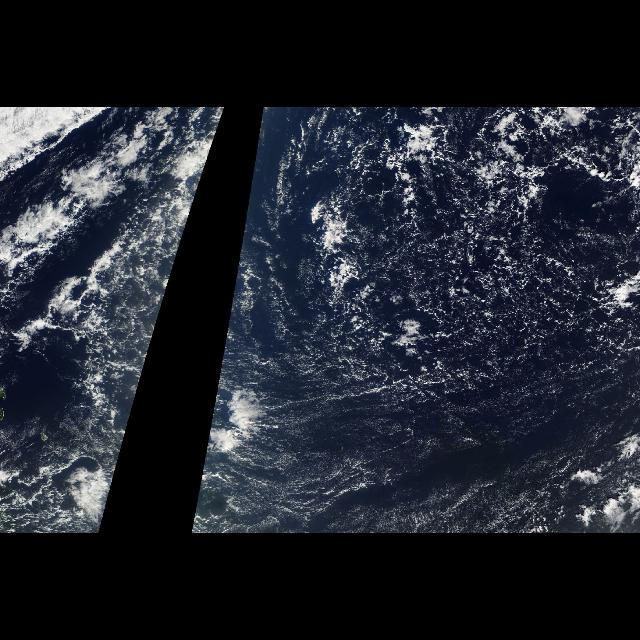Gravel: (288, 110, 640, 400)
Sugar: (205, 374, 639, 534)
